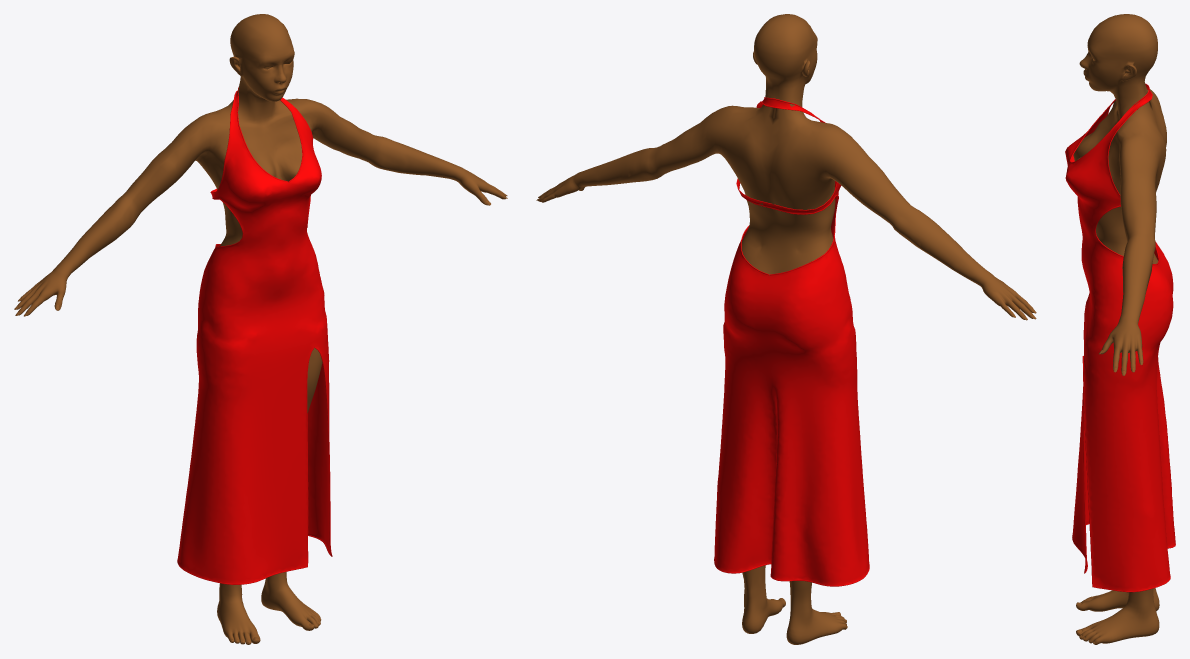
Rendered from dress3.glb.
3 views of the same model, side by side, from view 1: azimuth 30°, elevation 25°; view 2: azimuth 150°, elevation 25°; view 3: azimuth 270°, elevation 25° (orthographic).
Visible parts, largest first — view 1: EveningDress, Body; view 2: EveningDress, Body; view 3: EveningDress, Body.
Part boxes in pixels (x1,y1,x2,y2): EveningDress: (177,87,332,584); Body: (16,14,506,644); EveningDress: (714,97,869,586); Body: (538,14,1033,644); EveningDress: (1065,83,1175,592); Body: (1073,14,1166,644).
Size of the model in its own units: 1.58 by 1.85 by 0.306.
